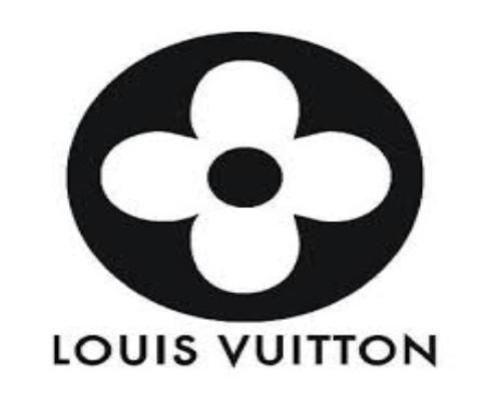LOUIS-VUITTON: (37, 329, 450, 376)
